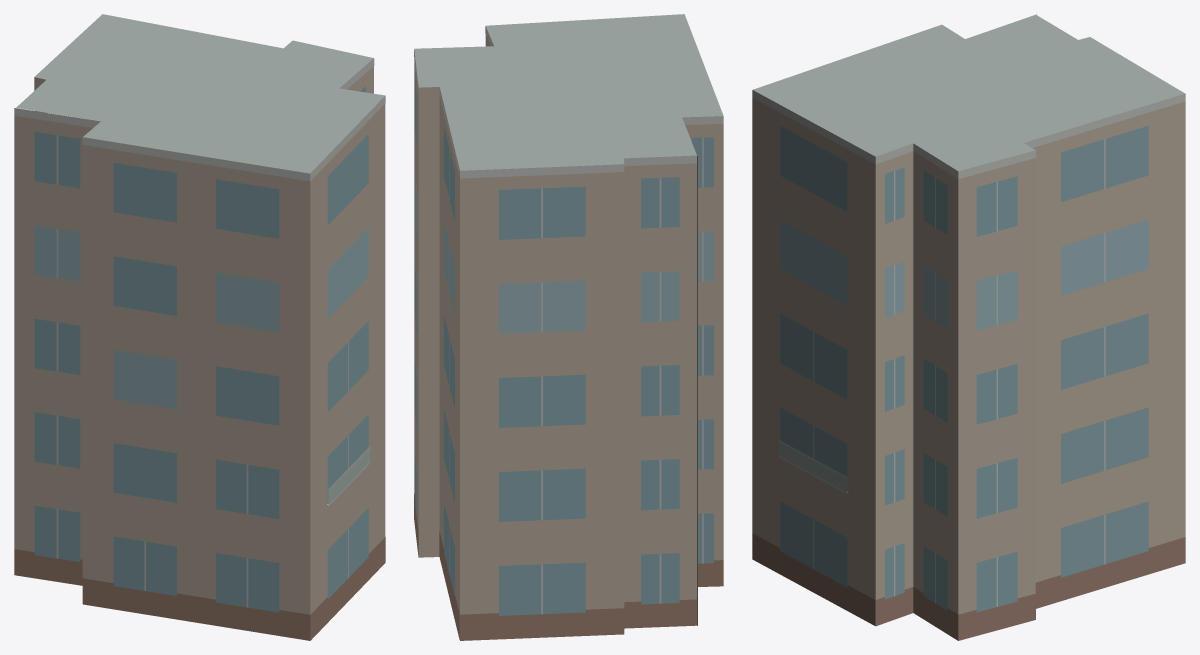
The model's file is survey-upis-32915022.glb.
The picture shows the model from 3 angles, left to right: view 1: azimuth 30°, elevation 25°; view 2: azimuth 150°, elevation 25°; view 3: azimuth 270°, elevation 25°; orthographic projection.
Parts seen in each view (by area): view 1: survey-upis-32915022.tmp; view 2: survey-upis-32915022.tmp; view 3: survey-upis-32915022.tmp.
Boxes of the visible parts, x1=… form: survey-upis-32915022.tmp: x1=14, y1=14, x2=385, y2=640; survey-upis-32915022.tmp: x1=414, y1=14, x2=723, y2=640; survey-upis-32915022.tmp: x1=752, y1=14, x2=1185, y2=640.
Bounding box in the file's own units: 10.65 × 14.8 × 12.38.
